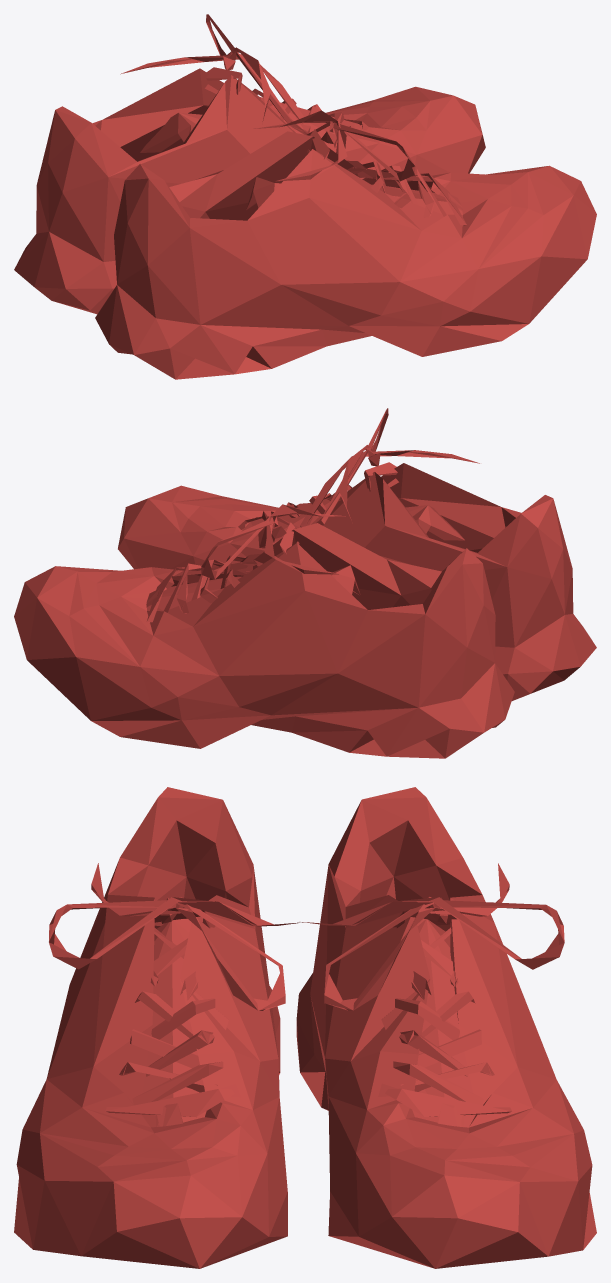
Rendered from Hand_asset_Sport-shoes.fbx.
3 renders of one model, top to bottom at view 1: azimuth 30°, elevation 25°; view 2: azimuth 150°, elevation 25°; view 3: azimuth 270°, elevation 25°, orthographic. The views are drawn at different scales.
Parts seen in each view (by area): view 1: Sport_shoe_mannequin.001; view 2: Sport_shoe_mannequin.001; view 3: Sport_shoe_mannequin.001.
Part boxes in pixels (x1,y1,x2,y2): Sport_shoe_mannequin.001: [14, 14, 596, 379]; Sport_shoe_mannequin.001: [14, 408, 596, 758]; Sport_shoe_mannequin.001: [14, 787, 596, 1268].
Size of the model in its own units: 63.77 by 27.27 by 51.49.
